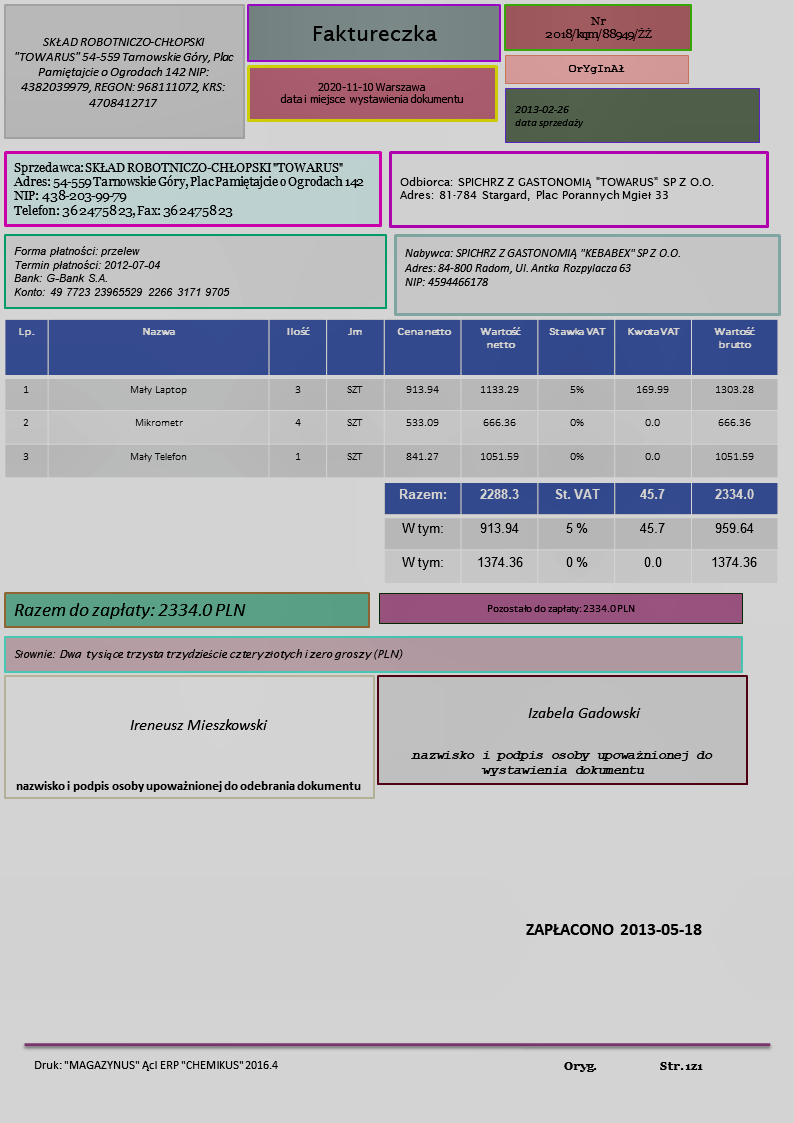Table: (3, 318, 780, 478), (382, 481, 780, 585)
TextBox: (11, 158, 368, 219), (12, 33, 239, 113), (402, 244, 685, 290), (11, 242, 233, 300), (395, 172, 717, 204), (408, 746, 716, 778), (13, 645, 404, 663), (13, 775, 363, 795), (11, 597, 248, 622), (32, 1055, 279, 1076), (277, 80, 467, 107), (520, 918, 707, 939), (542, 12, 654, 45), (126, 713, 269, 736), (310, 22, 438, 45), (525, 701, 644, 724), (561, 1057, 707, 1075), (483, 599, 640, 615), (512, 102, 586, 133), (565, 60, 626, 78)
